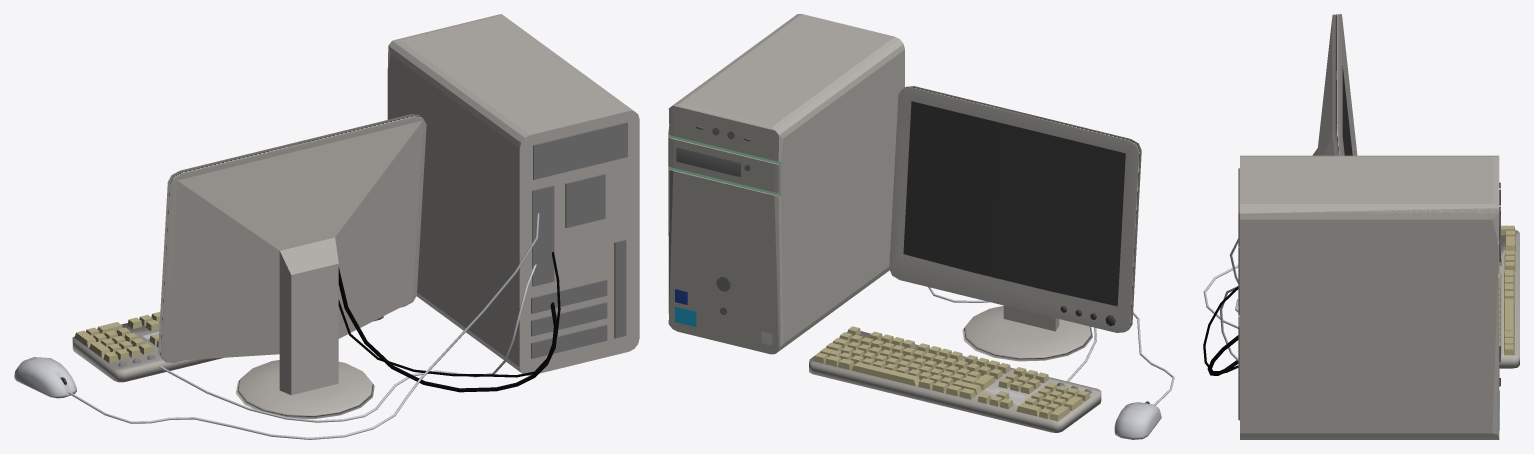
3 renders of one model, left to right at view 1: azimuth 30°, elevation 25°; view 2: azimuth 150°, elevation 25°; view 3: azimuth 270°, elevation 25°, orthographic. The views are drawn at different scales.
Visible parts, largest first — view 1: Cube.004, Cube.003, Cube, Cylinder, Cube.022, Cube.015, Cube.002, Cube.016, Cube.021, BezierCurve.003, Cube.014, BezierCurve (+6 smaller); view 2: Cube.004, Cube.001, Cube, Cube.015, Cube.002, Cylinder, Cube.014, Cube.012, Cube.003; view 3: Cube.004, Cube, Cube.015, Cube.002, Cube.003, Cube.001, BezierCurve.003, BezierCurve.001, BezierCurve.
Part boxes in pixels (box(x1,y1,x2,y2)): Cube.004: box(387, 14, 639, 375); Cube.003: box(167, 120, 422, 395); Cube: box(158, 114, 426, 362); Cylinder: box(236, 360, 374, 418); Cube.022: box(533, 122, 627, 179); Cube.015: box(74, 312, 160, 363); Cube.002: box(72, 316, 383, 382); Cube.016: box(532, 185, 554, 286); Cube.021: box(565, 174, 605, 227); BezierCurve.003: box(68, 213, 539, 439); Cube.014: box(14, 357, 76, 398); BezierCurve: box(338, 267, 556, 392); Cube.004: box(668, 14, 904, 354); Cube.001: box(903, 101, 1125, 306); Cube: box(889, 86, 1141, 332); Cube.015: box(813, 326, 1090, 421); Cube.002: box(809, 331, 1101, 432); Cylinder: box(962, 306, 1092, 361); Cube.014: box(1114, 402, 1161, 439); Cube.012: box(676, 148, 740, 176); Cube.003: box(1003, 305, 1059, 331); Cube.004: box(1240, 155, 1499, 439); Cube: box(1332, 14, 1357, 155); Cube.015: box(1499, 225, 1515, 355); Cube.002: box(1499, 230, 1519, 368); Cube.003: box(1312, 18, 1334, 155); Cube.001: box(1342, 66, 1352, 155); BezierCurve.003: box(1203, 238, 1238, 328); BezierCurve.001: box(1203, 286, 1238, 373); BezierCurve: box(1207, 335, 1238, 375).
Bounding box in the file's own units: 435 × 201 × 244.
